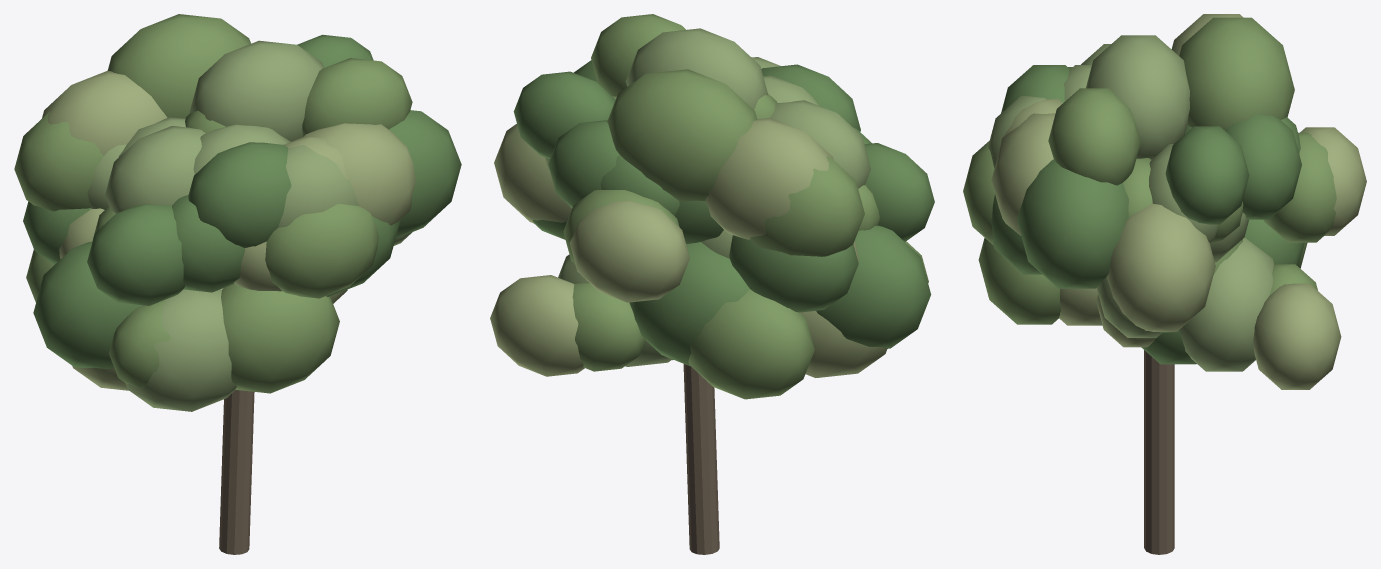
The model's file is district_oak.glb.
The picture shows the model from 3 angles, left to right: view 1: azimuth 30°, elevation 25°; view 2: azimuth 150°, elevation 25°; view 3: azimuth 270°, elevation 25°; orthographic projection. The views are drawn at different scales.
Visible parts, largest first — view 1: leaf1, leaf0, leaf2, leaf3, timber; view 2: leaf0, leaf1, leaf3, leaf2, timber; view 3: leaf1, leaf3, leaf0, leaf2, timber.
Boxes of the visible parts, <box> form: leaf1: <box>14,14,412,393</box>; leaf0: <box>23,34,461,369</box>; leaf2: <box>87,40,412,411</box>; leaf3: <box>42,71,415,390</box>; timber: <box>219,390,254,554</box>; leaf0: <box>513,60,934,366</box>; leaf1: <box>548,14,928,399</box>; leaf3: <box>490,57,887,377</box>; leaf2: <box>544,28,870,366</box>; timber: <box>683,364,719,554</box>; leaf1: <box>963,17,1336,324</box>; leaf3: <box>991,14,1366,389</box>; leaf0: <box>991,65,1304,364</box>; leaf2: <box>988,35,1273,371</box>; timber: <box>1144,350,1174,554</box>.
Size of the model in its own units: 6.85 by 8.15 by 5.77.
